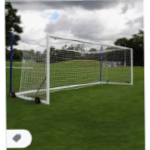goals: (12, 34, 137, 111)
